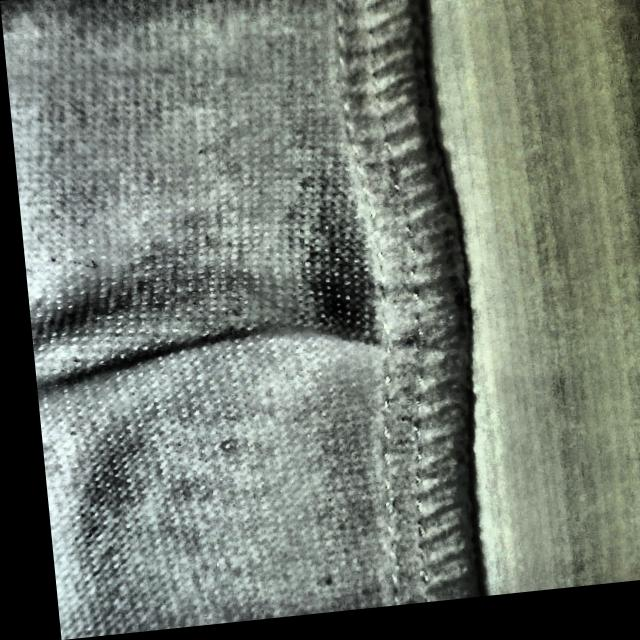seam: (170, 245, 471, 411)
